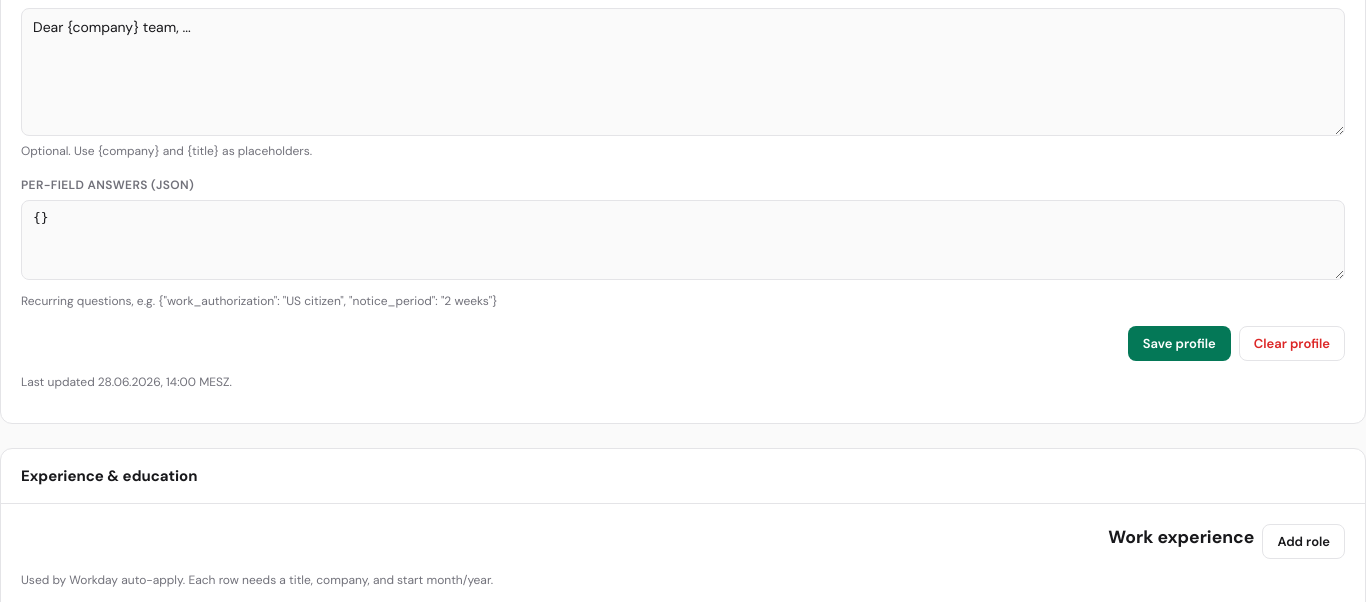
Test case: ProfilePage › surfaces an error when clearing fails
(page scrolled)
What coordinates should you click on to do the following:
click the button "Clear profile"
I would click on:
 (1292, 343)
Its box is [1239,326,1345,360].
(page scrolled)
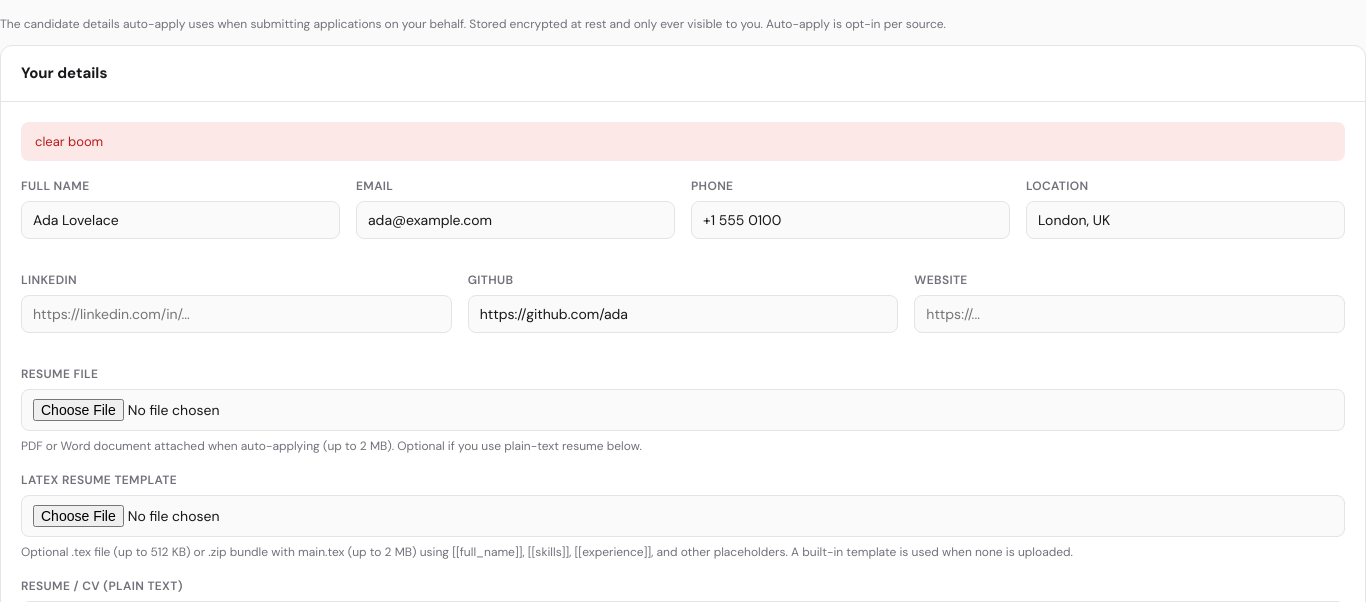
Result: the text "clear boom" is shown at [21,122,1345,161]
